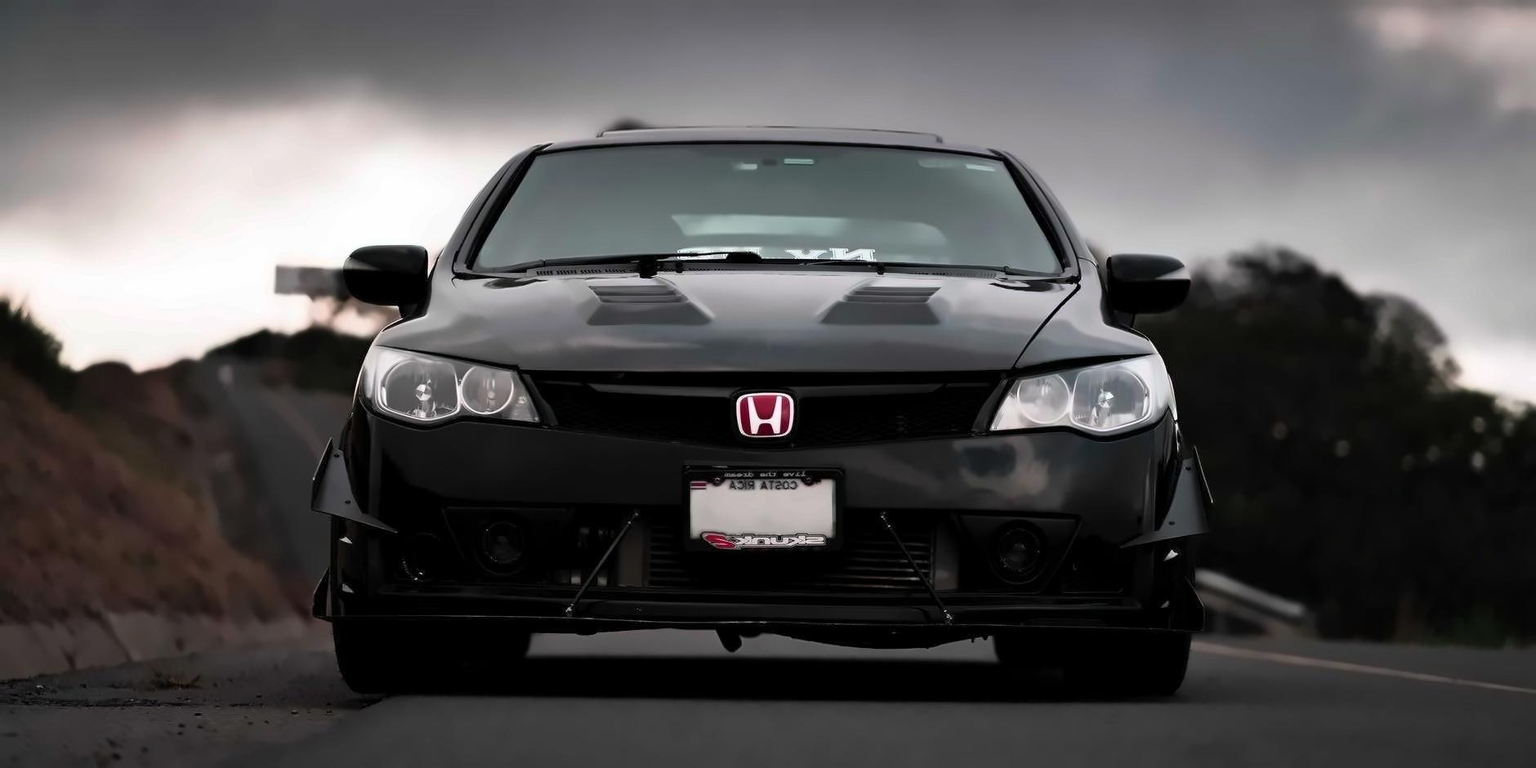Car hood: (369, 258, 1165, 384)
Front bumper: (301, 428, 1225, 643)
Headlight - -L-: (982, 347, 1186, 441)
Headlight - -R-: (353, 335, 544, 439)
Side mirror - -L-: (1096, 244, 1198, 331)
Side mirror - -R-: (334, 233, 449, 324)
